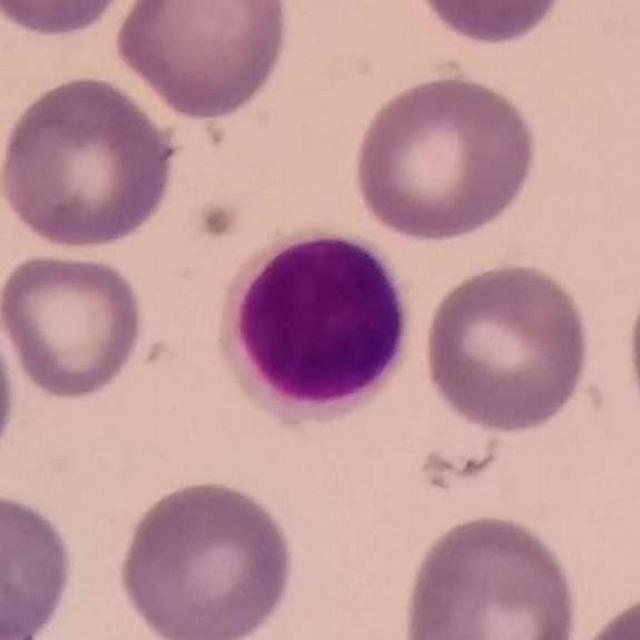Lymphocyte: (216, 223, 418, 424)
Platelets: (194, 202, 241, 247)
RBC: (348, 69, 541, 245), (0, 70, 183, 254), (418, 258, 596, 436), (113, 473, 300, 640), (396, 508, 583, 640), (0, 248, 149, 403), (110, 0, 295, 121), (0, 487, 78, 640), (407, 0, 572, 49), (0, 0, 138, 40), (566, 586, 640, 640), (621, 254, 640, 446), (0, 302, 20, 479)
